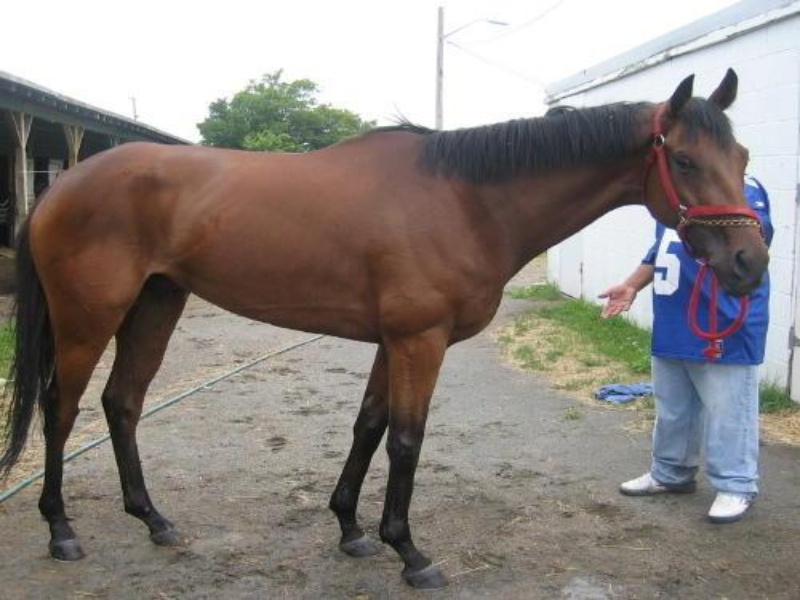hands: (595, 279, 633, 327)
